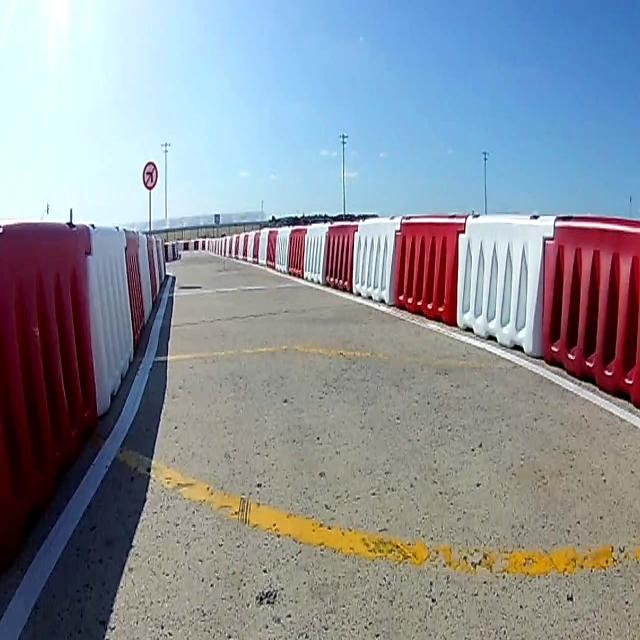soladonulmez: (144, 160, 156, 189)
